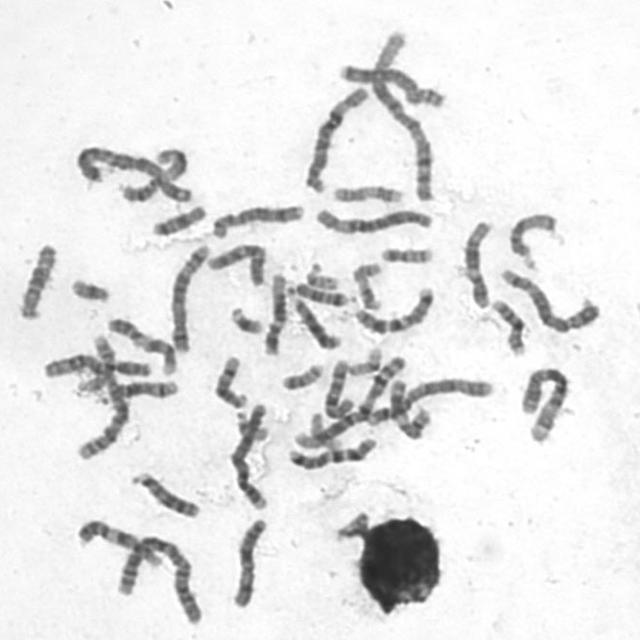A1: (368, 25, 438, 204), (292, 350, 409, 453)
A2: (38, 346, 132, 462), (111, 530, 206, 627)
A3: (71, 140, 195, 205), (515, 362, 572, 445)
B4: (358, 374, 496, 428), (226, 400, 272, 512)
B5: (494, 263, 602, 335), (164, 238, 213, 356)
C10: (202, 238, 268, 289), (319, 355, 355, 421)
C11: (117, 143, 190, 205), (386, 376, 432, 441)
C12: (458, 216, 496, 311), (258, 269, 289, 357)
C6: (300, 81, 370, 195), (310, 203, 435, 237)
C7: (349, 282, 437, 336), (283, 432, 379, 472)
C8: (334, 59, 447, 110), (207, 198, 307, 240)
C9: (72, 516, 165, 570), (102, 313, 180, 377)
D13: (126, 467, 202, 521), (283, 290, 344, 352)
D14: (92, 375, 181, 406), (209, 351, 251, 411)
D15: (14, 238, 58, 322), (504, 208, 560, 272)
E16: (72, 330, 120, 395), (487, 296, 529, 358)
E17: (328, 179, 407, 206), (347, 258, 385, 313)
E18: (148, 200, 208, 238), (282, 277, 349, 308)
F19: (306, 408, 343, 452), (342, 342, 384, 378)
F20: (376, 242, 436, 265), (279, 361, 325, 391)
G21: (225, 302, 266, 336), (66, 274, 112, 304)
G22: (301, 258, 342, 292), (233, 412, 270, 444)
X: (227, 514, 270, 610)
